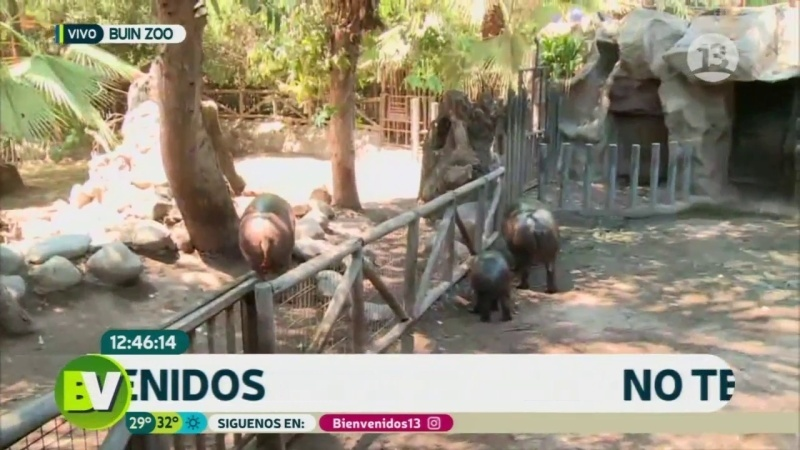hipopotamo: (223, 174, 318, 289), (499, 195, 573, 305), (452, 236, 524, 331)
